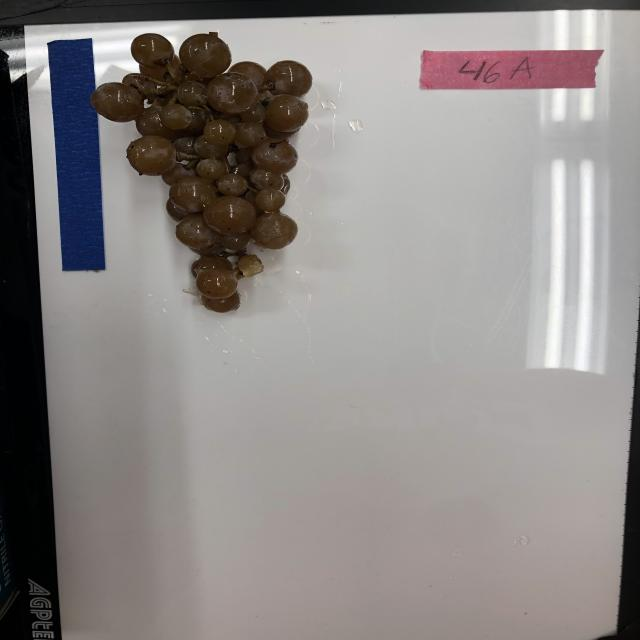grape_cluster: (95, 28, 317, 317)
index: (418, 46, 605, 94)
measure_label: (47, 37, 111, 275)
